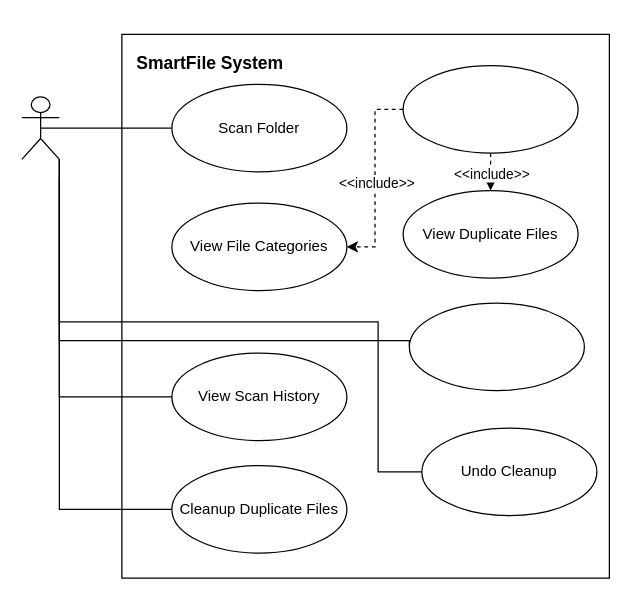
This 631x610 diagram has some shape labels left out. Each missing label, with the centre of its shape:
Select Duplicate Files: point (496, 346)
User: point (40, 127)
View Scan Results: point (490, 108)
